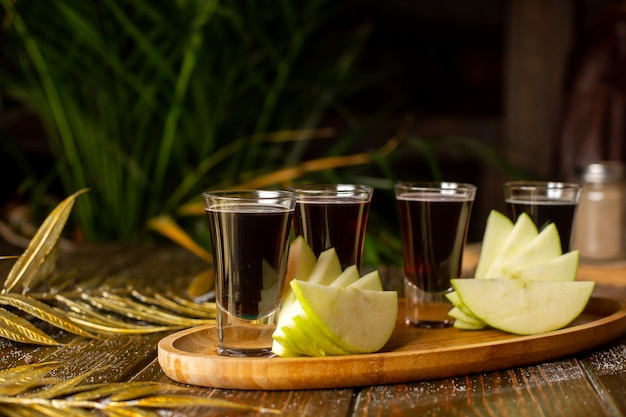alcohol: (202, 190, 292, 355), (393, 181, 479, 328), (499, 180, 581, 296), (295, 185, 373, 296)
